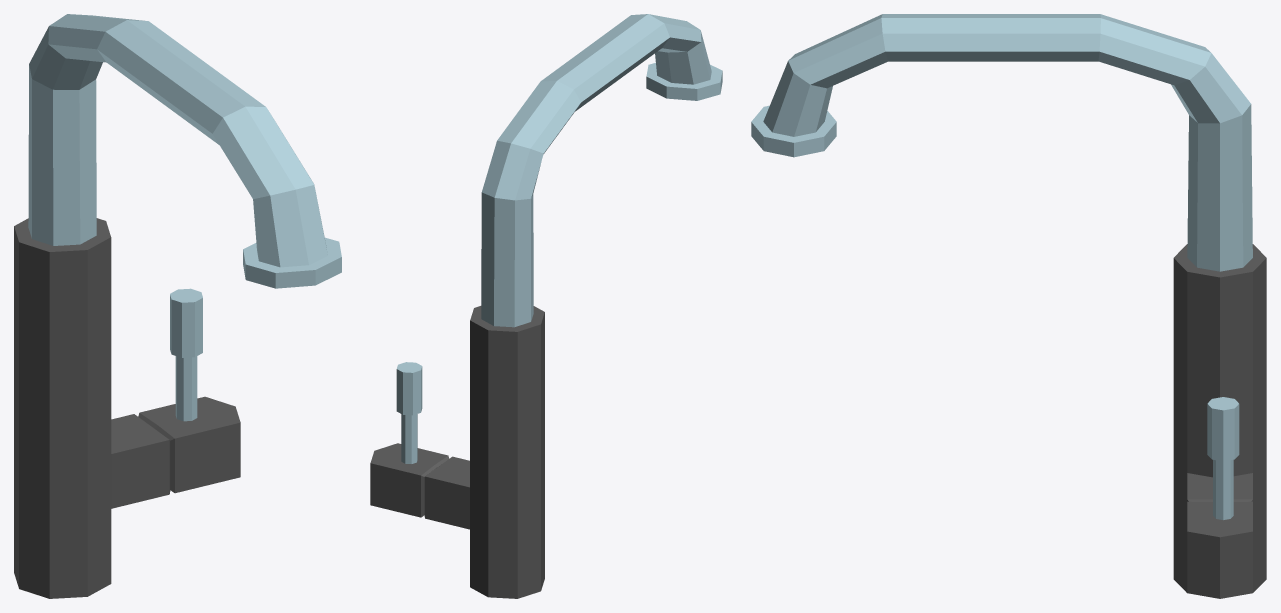
Rendered from Kitchen_2_Tap.fbx.
3 renders of one model, left to right at view 1: azimuth 30°, elevation 25°; view 2: azimuth 150°, elevation 25°; view 3: azimuth 270°, elevation 25°, orthographic. The views are drawn at different scales.
Visible parts, largest first — view 1: Kitchen_2_Tap; view 2: Kitchen_2_Tap; view 3: Kitchen_2_Tap.
Part boxes in pixels (box(x1,y1,x2,y2)): Kitchen_2_Tap: box(14, 14, 341, 598); Kitchen_2_Tap: box(370, 14, 722, 598); Kitchen_2_Tap: box(751, 14, 1266, 598).
Bounding box in the file's own units: 15.88 × 41.82 × 34.81.
